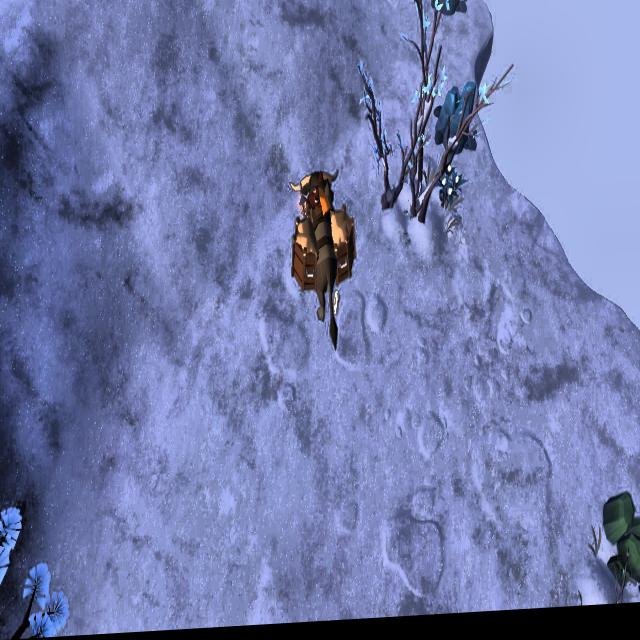fiber_t4: (436, 168, 466, 215)
rock_t3: (596, 493, 640, 589)
rock_t4: (433, 86, 479, 160), (431, 0, 471, 24)
